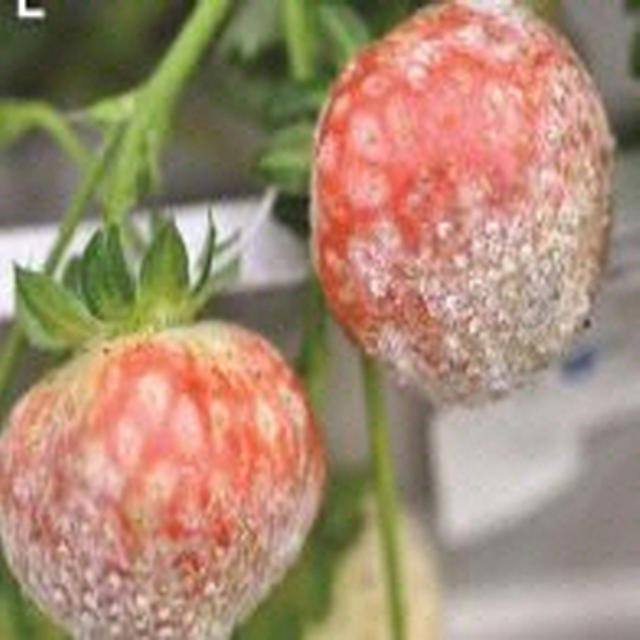Powdery Mildew Fruit: (308, 0, 621, 408), (2, 319, 330, 638)
